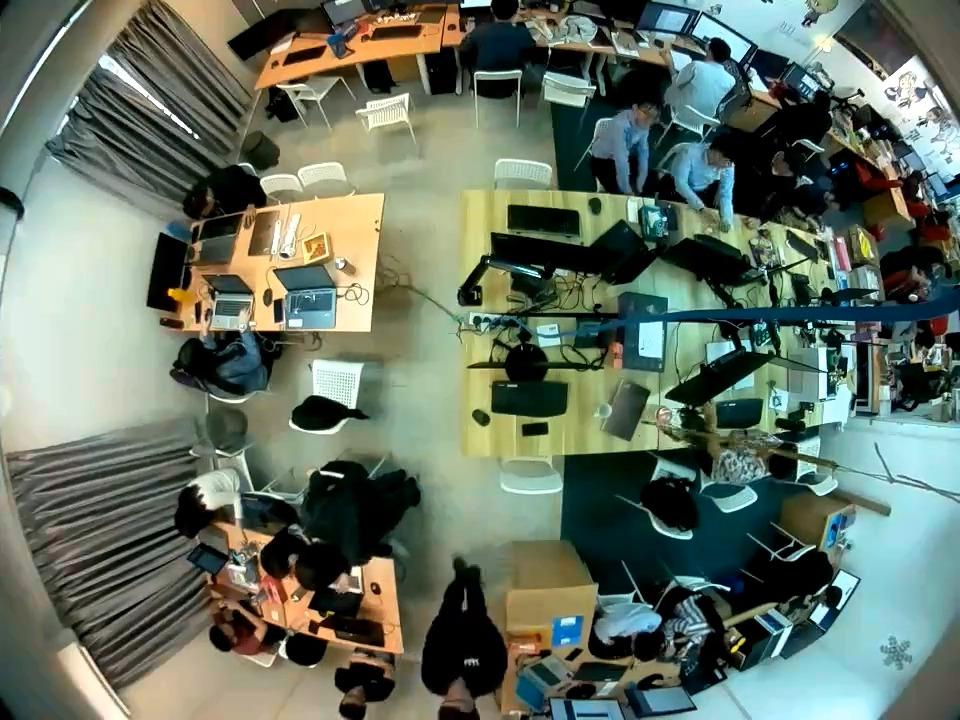name-tag: (462, 657, 480, 667)
